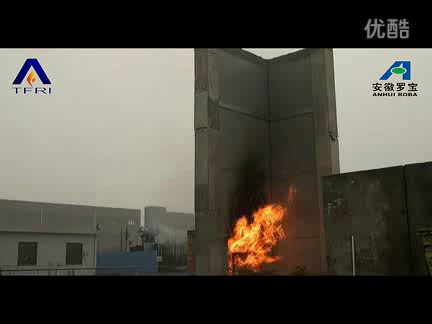fire: (226, 195, 290, 274)
